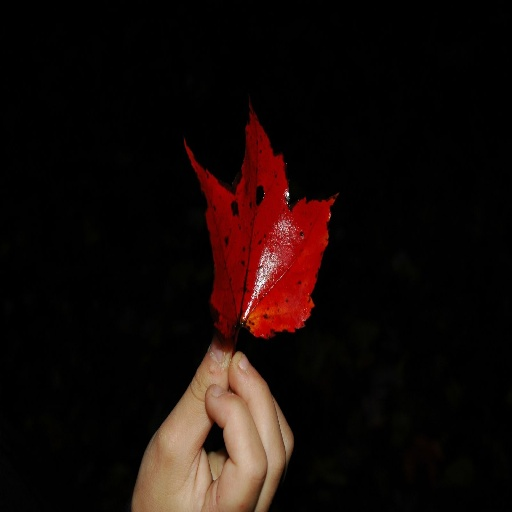hand: (131, 331, 294, 511)
